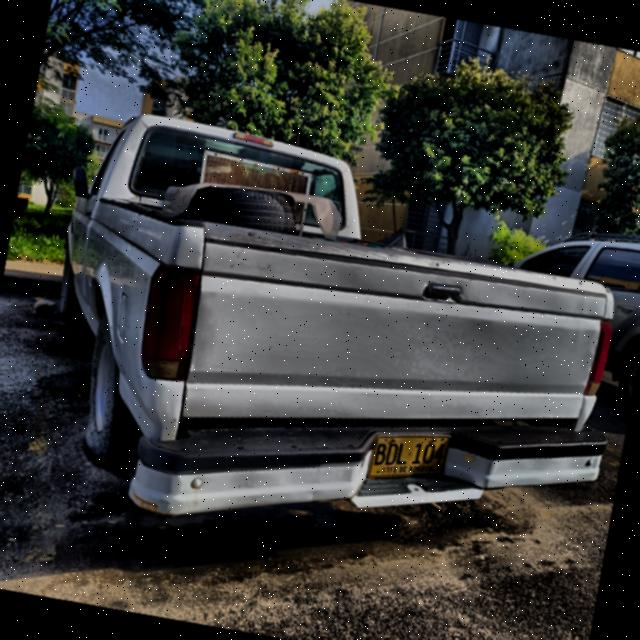plate: (369, 437, 450, 477)
